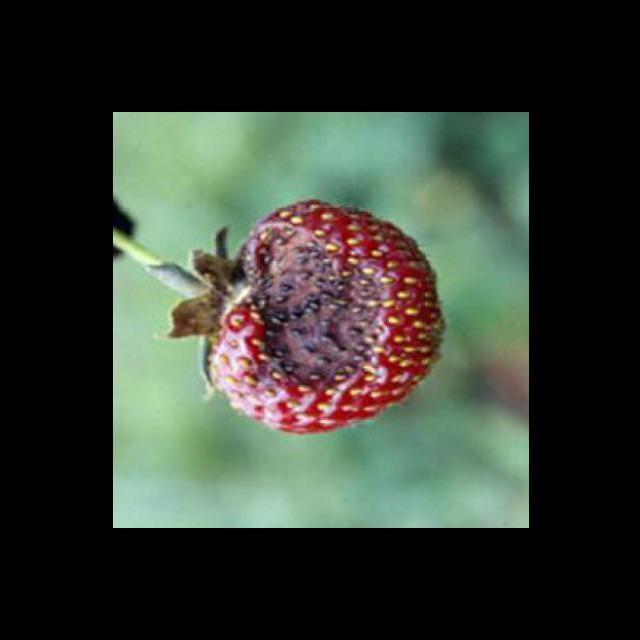Anthracnose Fruit Rot: (226, 218, 388, 399)
